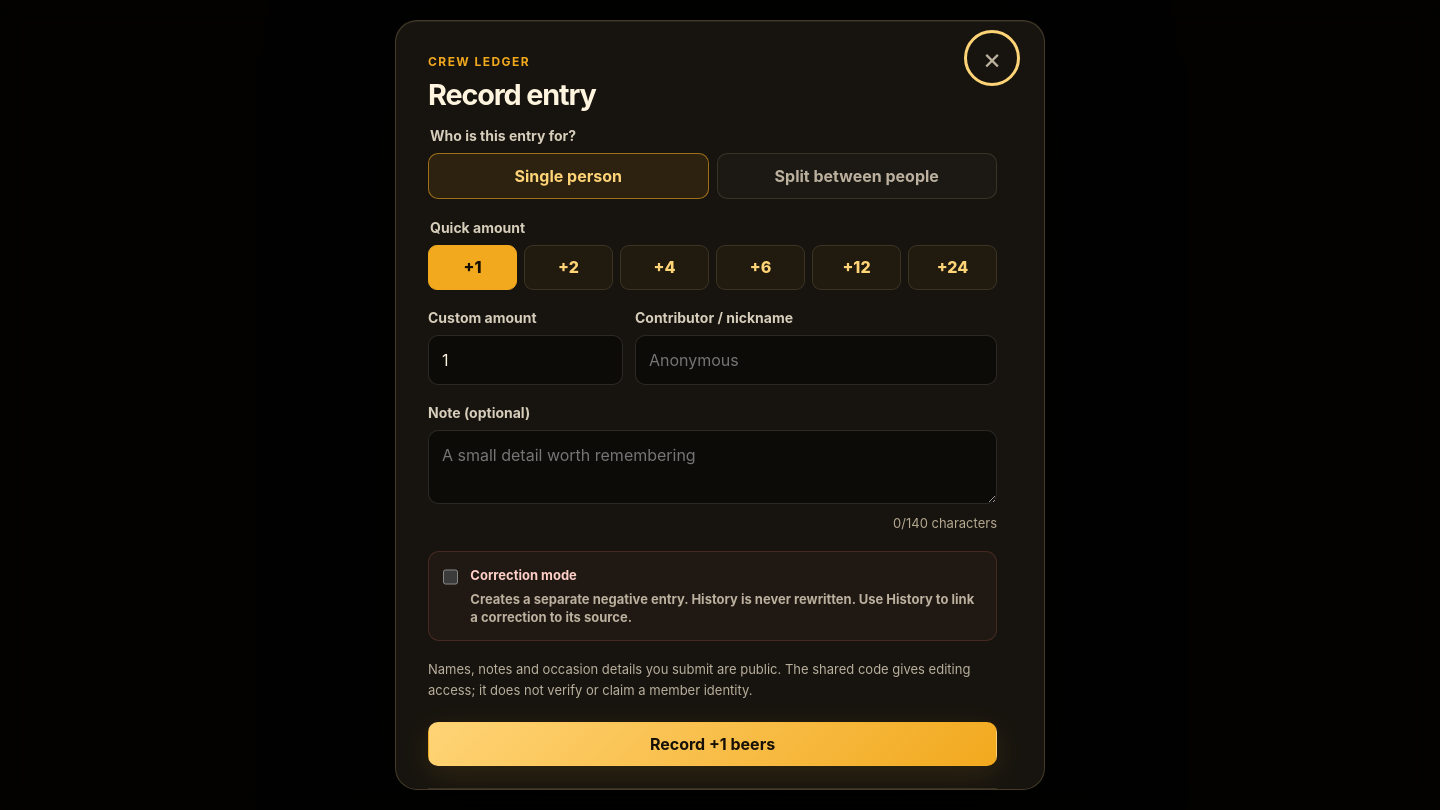
Test: UpdateModal group mode › equal-splits 10 across 3 as 4, 3, 3 and allows manual edits afterward
Step 1. Click the button "Split between people" → click(857, 176), box [716, 152, 997, 198]
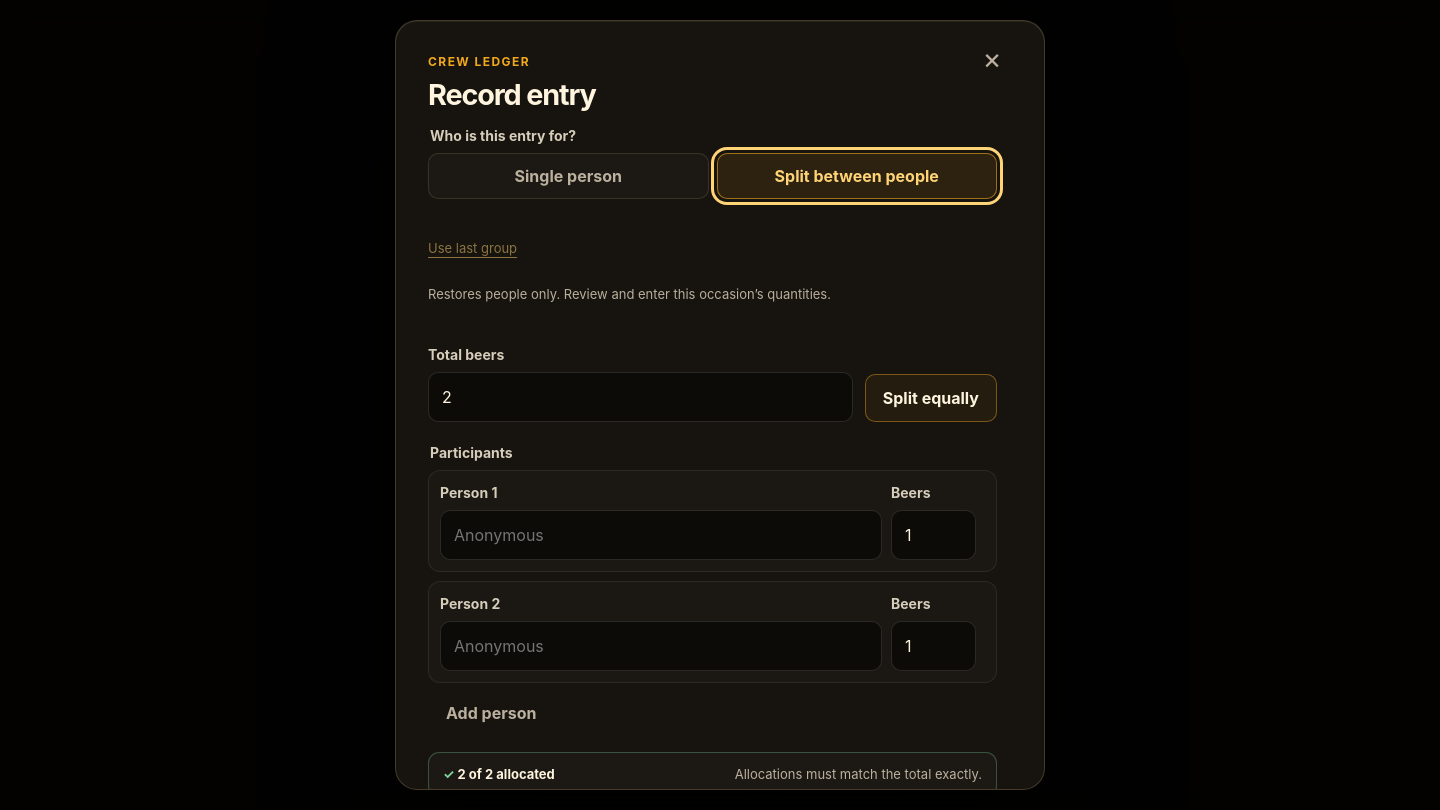
Step 2. Replace the text in the number field labelled "Total beers" with "10" → (640, 397), box [428, 372, 853, 422]
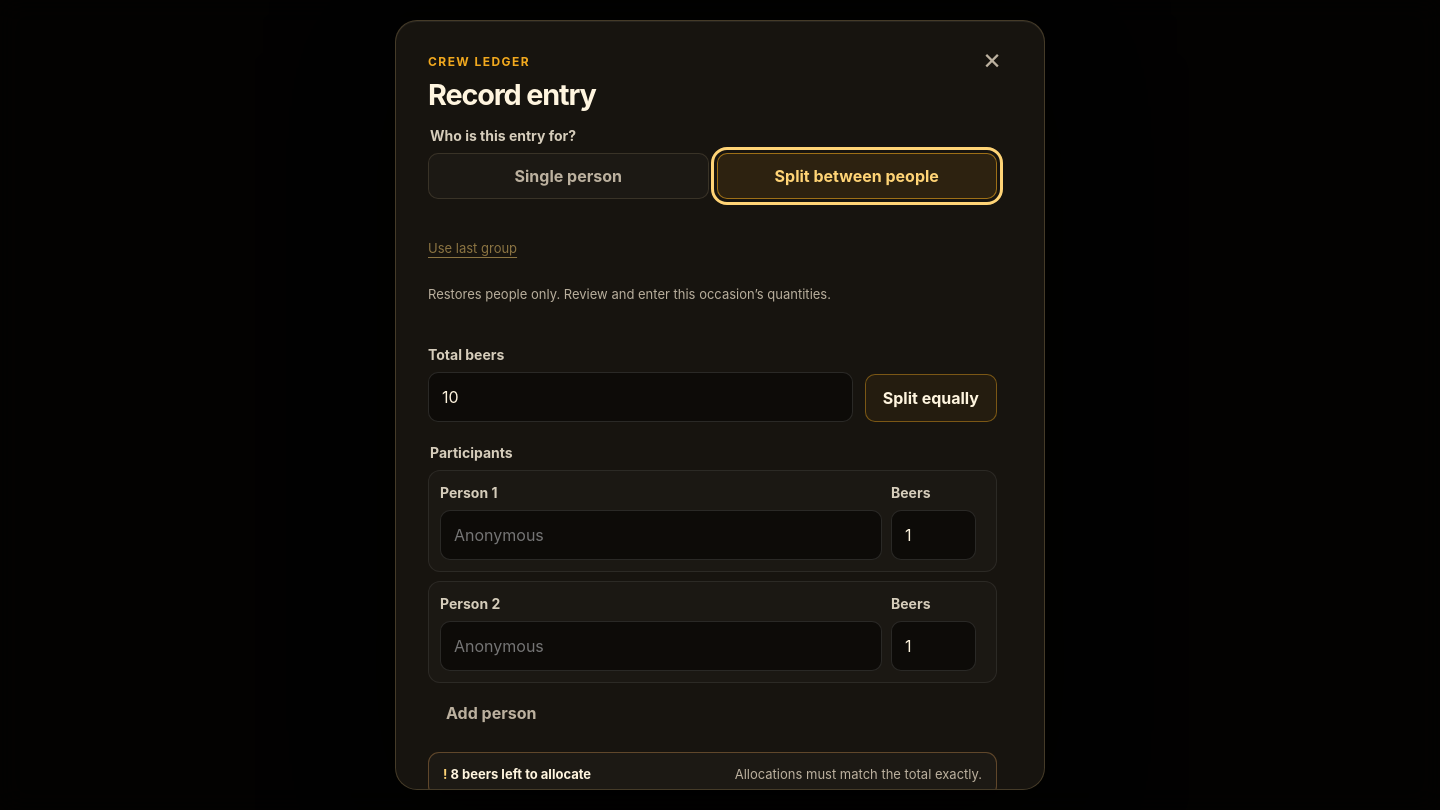
Step 3. Click the button "Add person" → click(491, 714), box [428, 691, 554, 736]
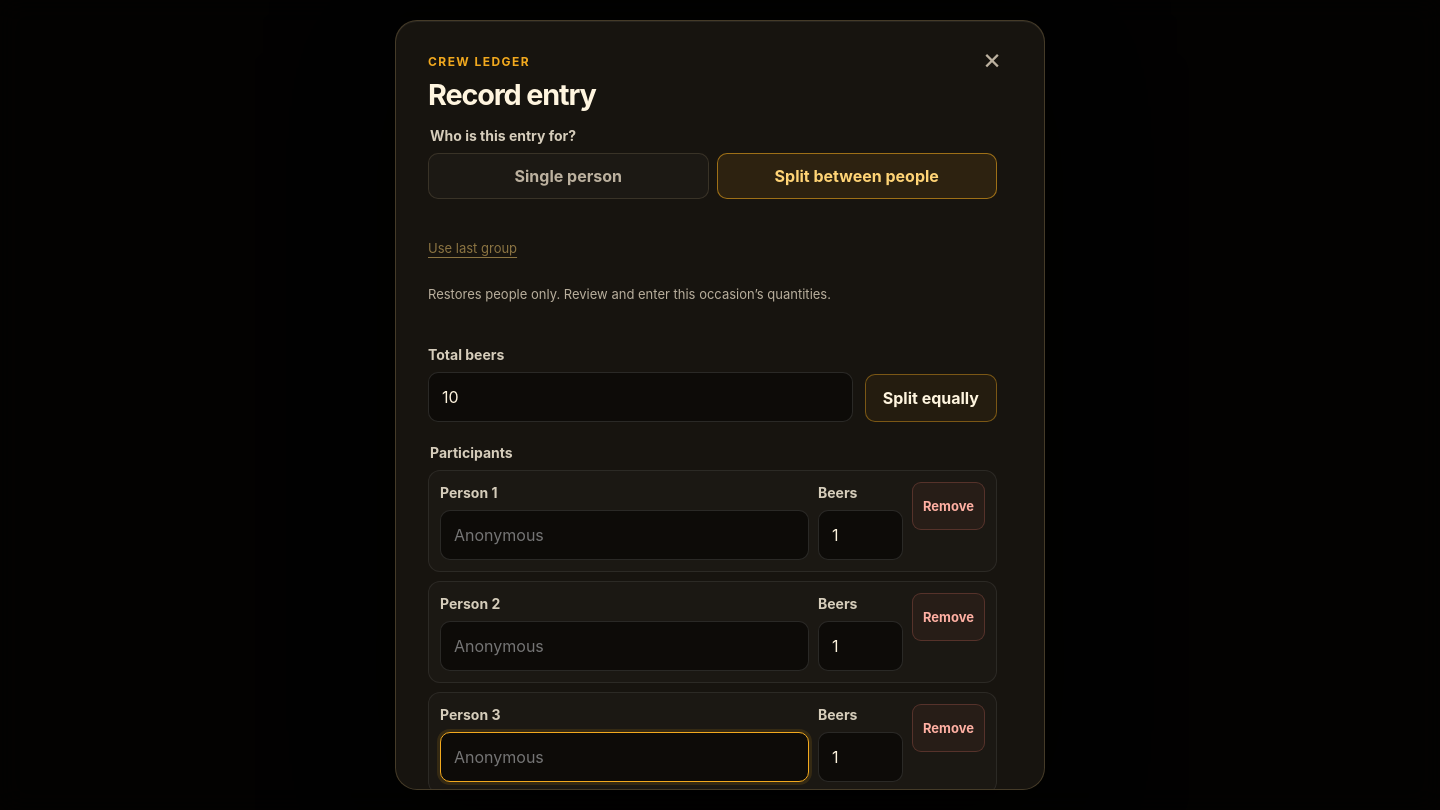
Step 4. Click the button "Split equally" → click(931, 398), box [865, 374, 997, 422]
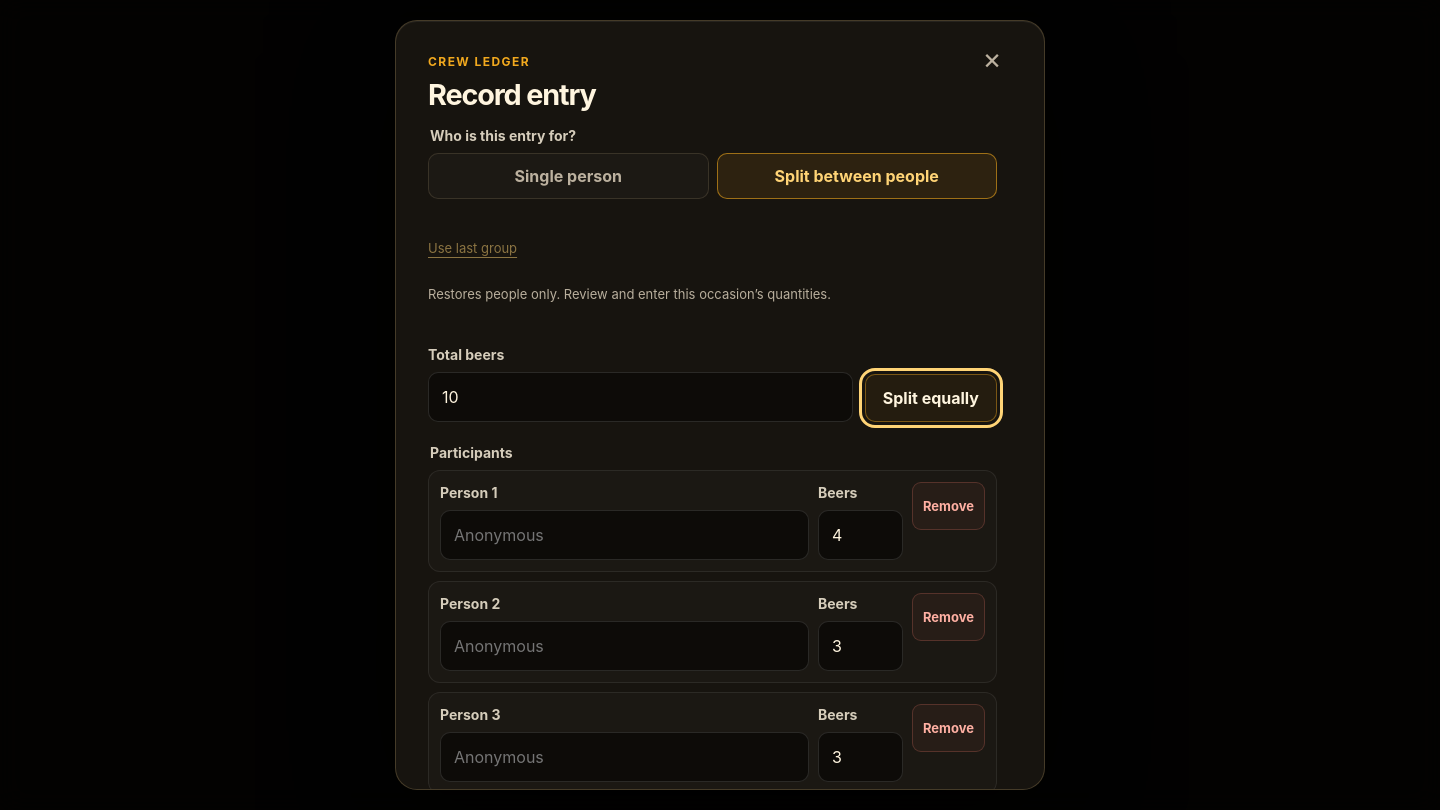
expect the number field named "Beer allocation for participant 1" holds "4": met
expect the number field named "Beer allocation for participant 2" holds "3": met, box [818, 621, 903, 671]
expect the number field named "Beer allocation for participant 3" holds "3": met, box [818, 732, 903, 782]
Step 5. Replace the text in the number field named "Beer allocation for participant 1" with "5" → (860, 535), box [818, 510, 903, 560]
(page scrolled)
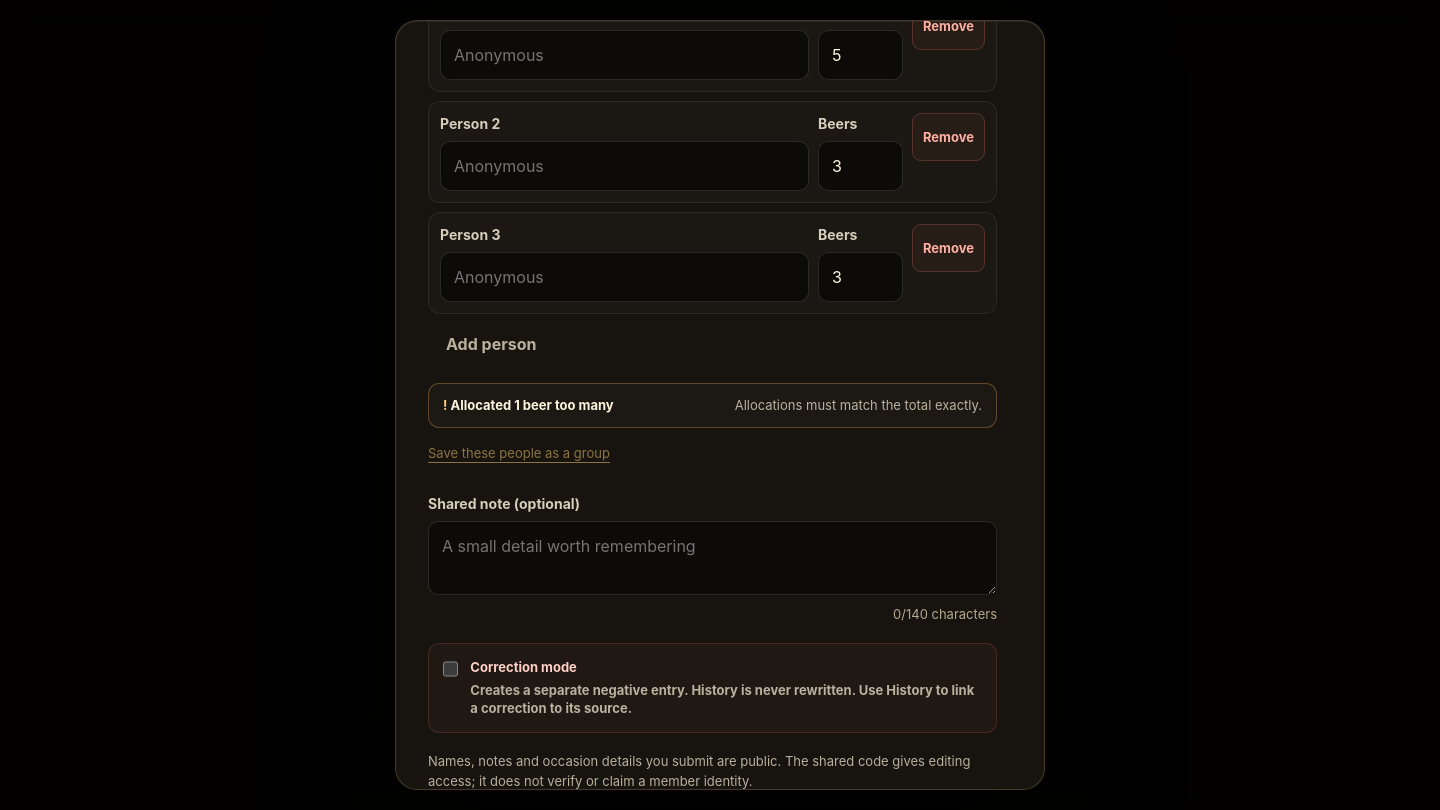
expect the text "Allocated 1 beer too many" is shown: met, box [443, 396, 614, 415]
